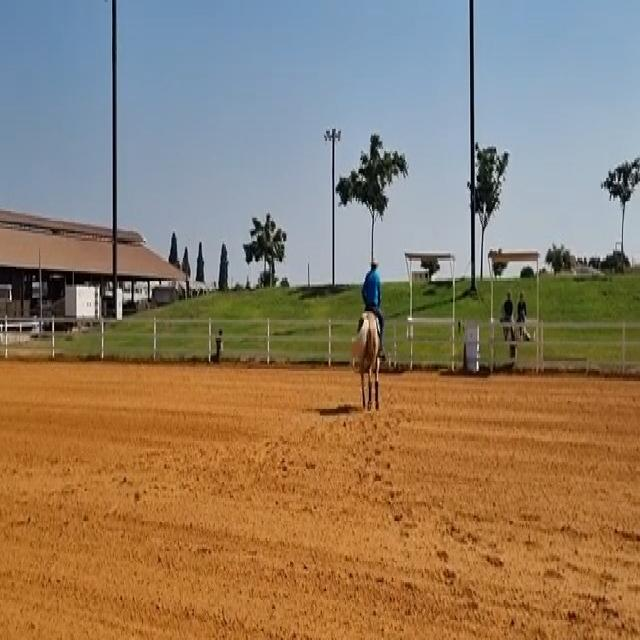horse: (350, 305, 382, 411)
